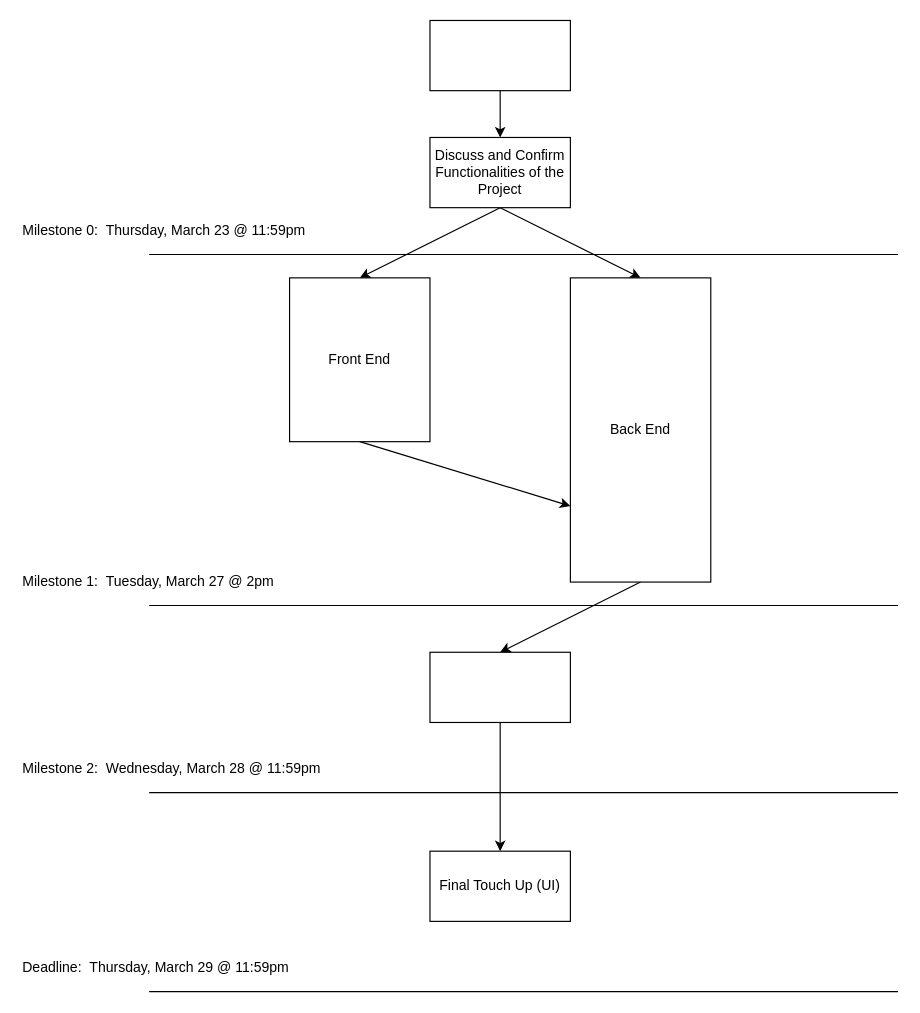
This 920x1013 diagram has some shape labels left out. The centre of each missing label's shape, as x and y in pixels:
"Create GitHub Repository" belongs at (499,55).
"MEET UP Work together to link up the front and back ends" belongs at (499,686).
